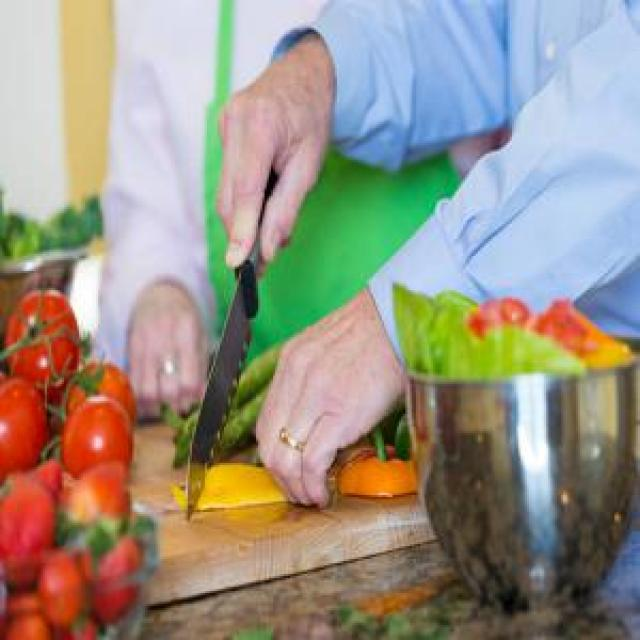knife: (183, 173, 304, 531)
